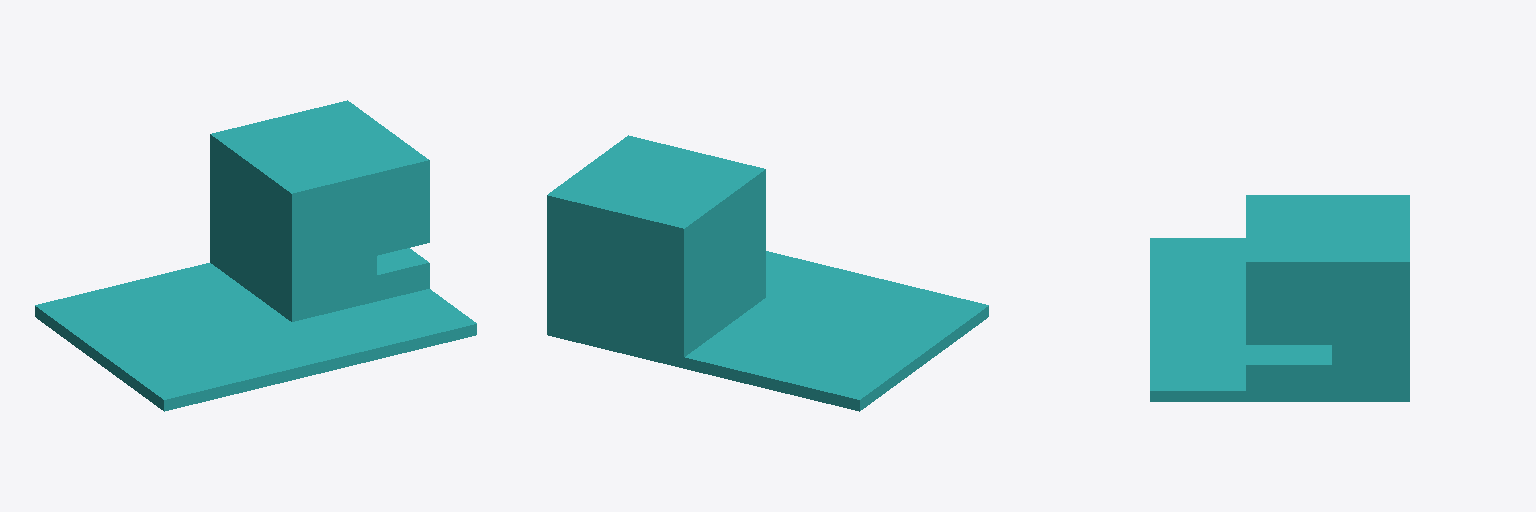
3 renders of one model, left to right at view 1: azimuth 30°, elevation 25°; view 2: azimuth 150°, elevation 25°; view 3: azimuth 270°, elevation 25°, orthographic.
Parts seen in each view (by area): view 1: object_1; view 2: object_1; view 3: object_1.
Boxes of the visible parts, x1,y1,x2,y2 form: object_1: [35, 100, 476, 411]; object_1: [547, 135, 988, 411]; object_1: [1150, 195, 1409, 401].
Size of the model in its own units: 7.93 by 3.39 by 5.68.